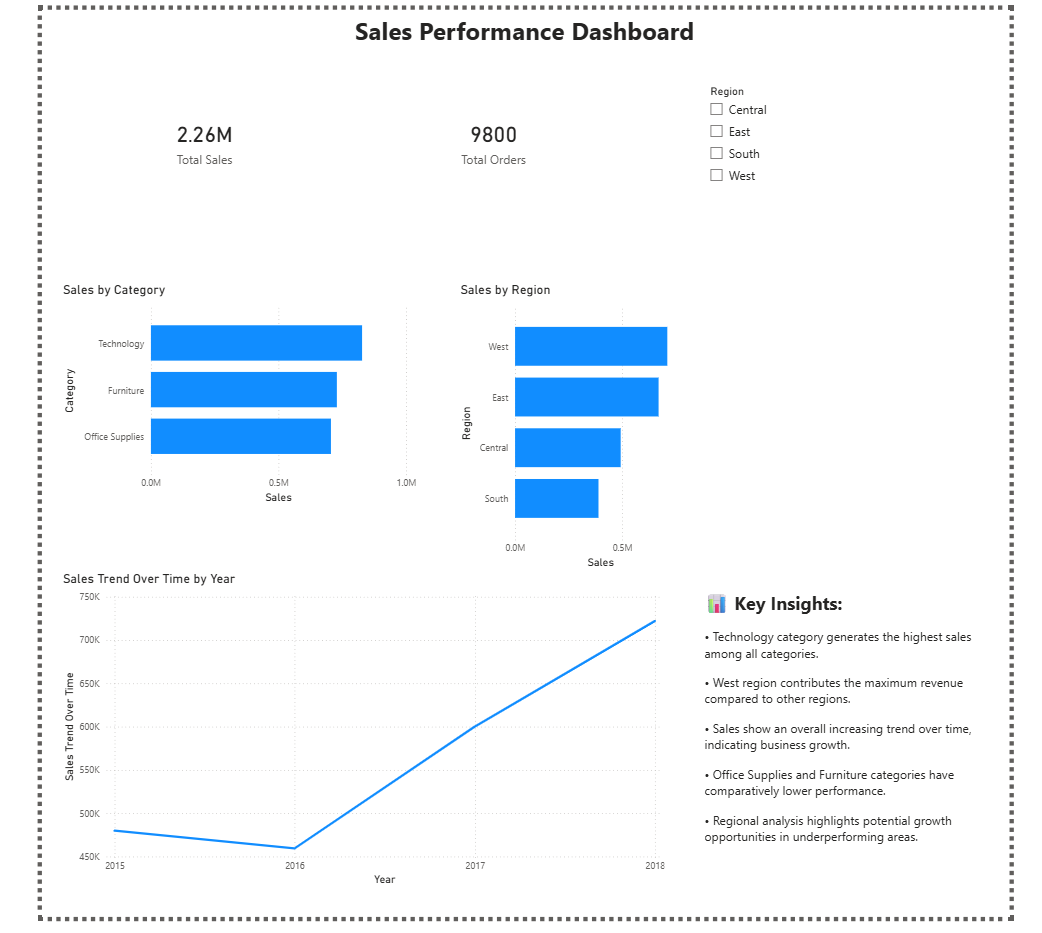

What the dashboard file says about the page in this screenshot:
{"tool":"powerbi","page":{"name":"Page 1","canvas":[1280,1200],"ordinal":0},"visuals":[{"type":"card","fields":{"Values":["Sum(Superstore Dataset.Sales)"]},"box":[66.3,24.8,298.2,294.9],"z":0},{"type":"card","fields":{"Values":["CountNonNull(Superstore Dataset.Order ID)"]},"box":[445.7,25.7,302.9,294.3],"z":1000},{"type":"lineChart","fields":{"Category":["Superstore Dataset.Order Date.Variation.Date Hierarchy.Year","Superstore Dataset.Order Date.Variation.Date Hierarchy.Month"],"Y":["Sum(Superstore Dataset.Sales)"]},"box":[22.9,742.9,805.7,420],"z":2000},{"type":"clusteredBarChart","fields":{"Y":["Sum(Superstore Dataset.Sales)"],"Category":["Superstore Dataset.Category"]},"box":[22.4,359.9,477.6,296.6],"z":3000},{"type":"clusteredBarChart","fields":{"Y":["Sum(Superstore Dataset.Sales)"],"Category":["Superstore Dataset.Region"]},"box":[548.6,360,322.9,382.9],"z":4000},{"type":"slicer","fields":{"Values":["Superstore Dataset.Region"]},"box":[871.4,94.3,371.4,328.6],"z":5000},{"type":"textbox","box":[871.4,762.9,371.4,382.9],"z":6000},{"type":"textbox","box":[292.9,0,694.3,68.6],"z":6001}]}

Visuals, with their boxes in screenshot pixels (x1, y1, x2, y2):
card - Sum(Superstore Dataset.Sales): BBox(72, 6, 309, 241)
card - CountNonNull(Superstore Dataset.Order ID): BBox(373, 7, 614, 241)
lineChart - Superstore Dataset.Order Date.Variation.Date Hierarchy.Year x Superstore Dataset.Order Date.Variation.Date Hierarchy.Month: BBox(37, 577, 678, 911)
clusteredBarChart - Sum(Superstore Dataset.Sales) x Superstore Dataset.Category: BBox(37, 273, 417, 509)
clusteredBarChart - Sum(Superstore Dataset.Sales) x Superstore Dataset.Region: BBox(455, 273, 712, 577)
slicer - Superstore Dataset.Region: BBox(712, 61, 1007, 323)
textbox: BBox(712, 593, 1007, 898)
textbox: BBox(252, 0, 804, 41)
